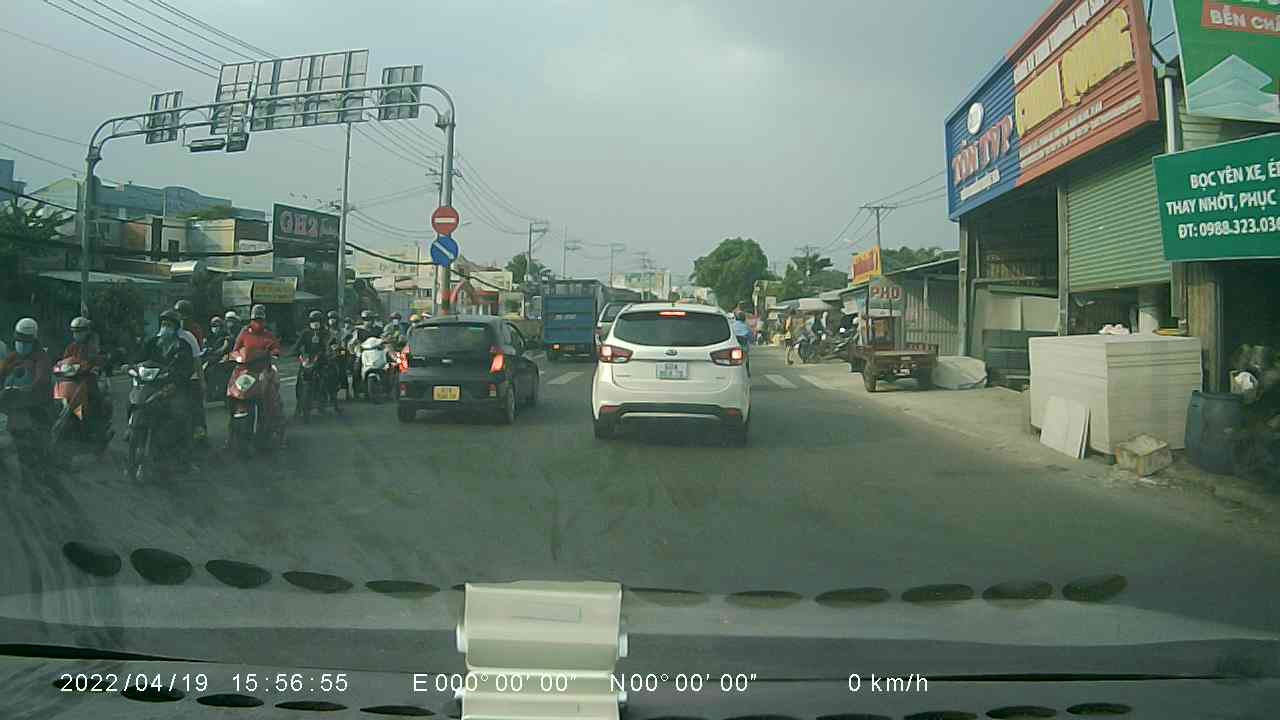Cam di nguoc chieu: (430, 202, 463, 234)
Huong di phai re phai: (430, 237, 459, 268)
